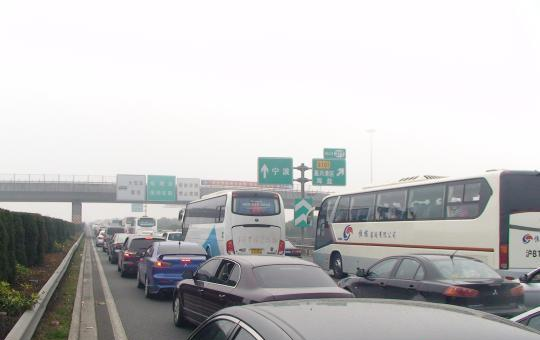bus: (303, 168, 540, 287), (176, 189, 284, 265), (131, 216, 159, 245)
car: (183, 298, 540, 340), (172, 254, 357, 335), (335, 252, 526, 323), (135, 239, 210, 299), (114, 234, 172, 281), (107, 232, 143, 265), (101, 225, 126, 256), (96, 229, 115, 248)
